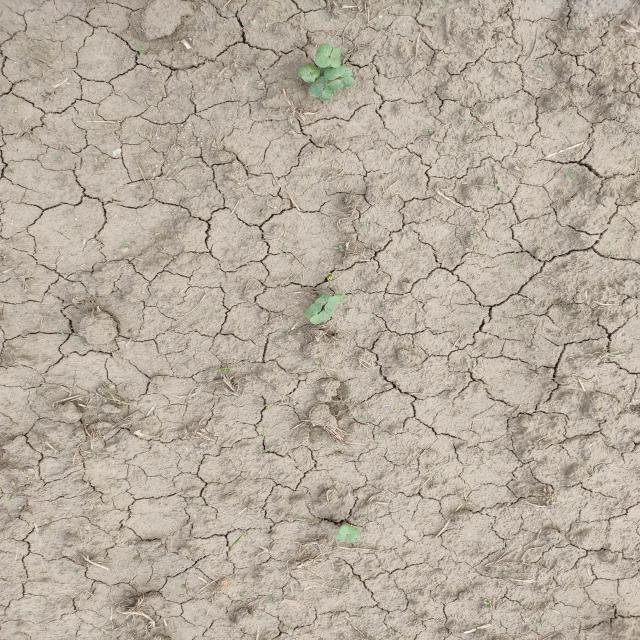seedling_s2: (308, 76, 328, 98), (324, 65, 352, 80), (315, 44, 332, 68), (329, 76, 354, 90), (310, 310, 333, 324), (297, 66, 316, 82), (339, 524, 360, 538), (324, 296, 341, 313), (321, 83, 336, 100), (305, 303, 322, 318), (315, 293, 332, 307), (331, 47, 341, 68), (306, 64, 321, 78), (334, 533, 355, 543)
